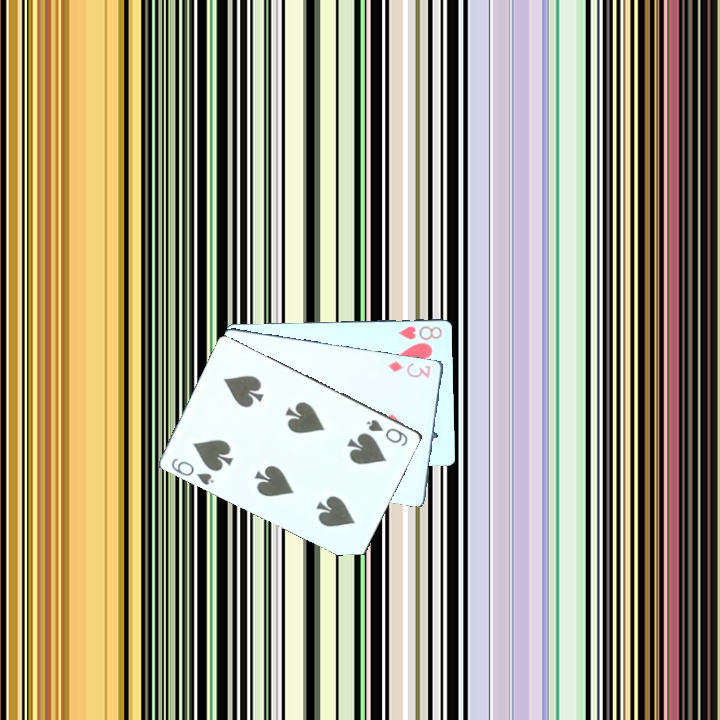3d: (384, 357, 433, 381)
6s: (167, 454, 216, 488), (362, 415, 410, 449)
8h: (394, 322, 444, 342)
